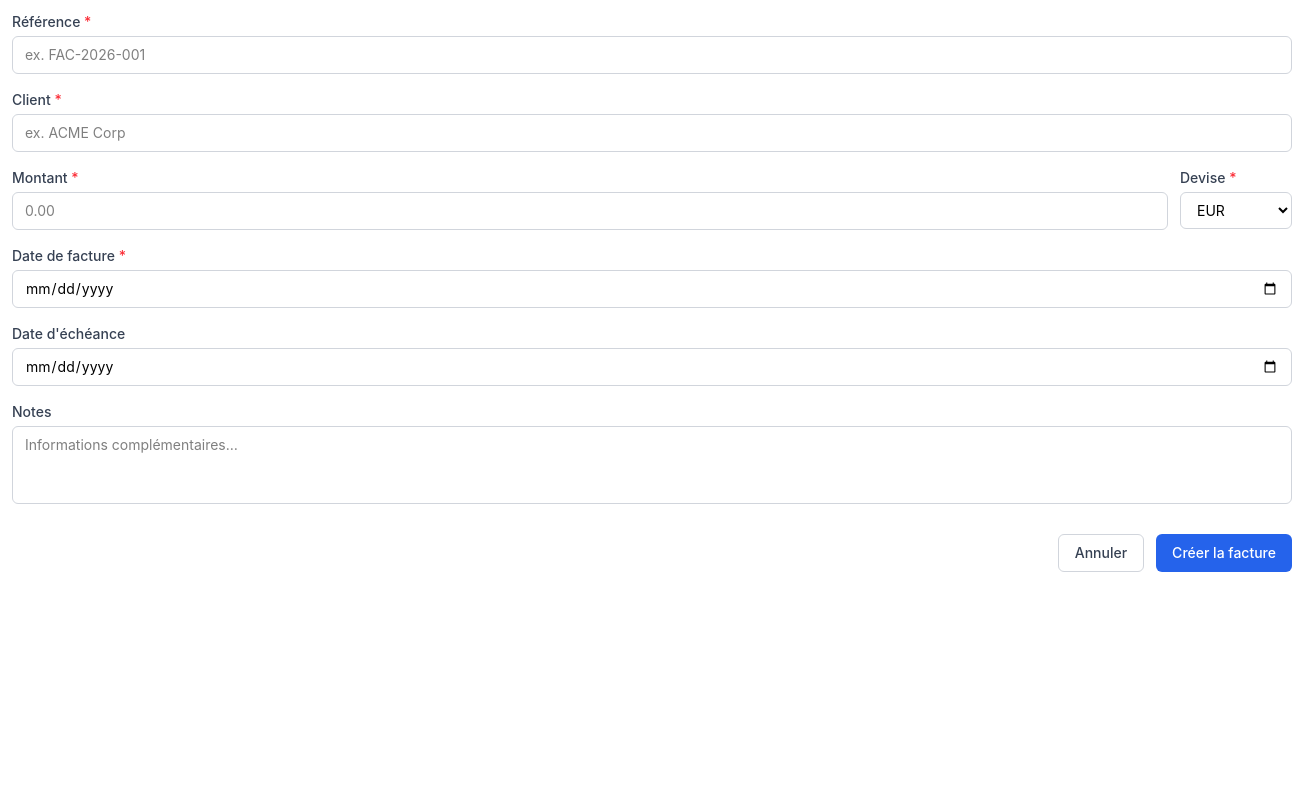
Scenario: InvoiceForm › validate() — required fields › shows amount > 0 error when amount is 0
The image size is (1304, 812).
Step 1. Type "FAC-X" into the field with id "inv-reference" → (652, 55), box [12,36,1292,74]
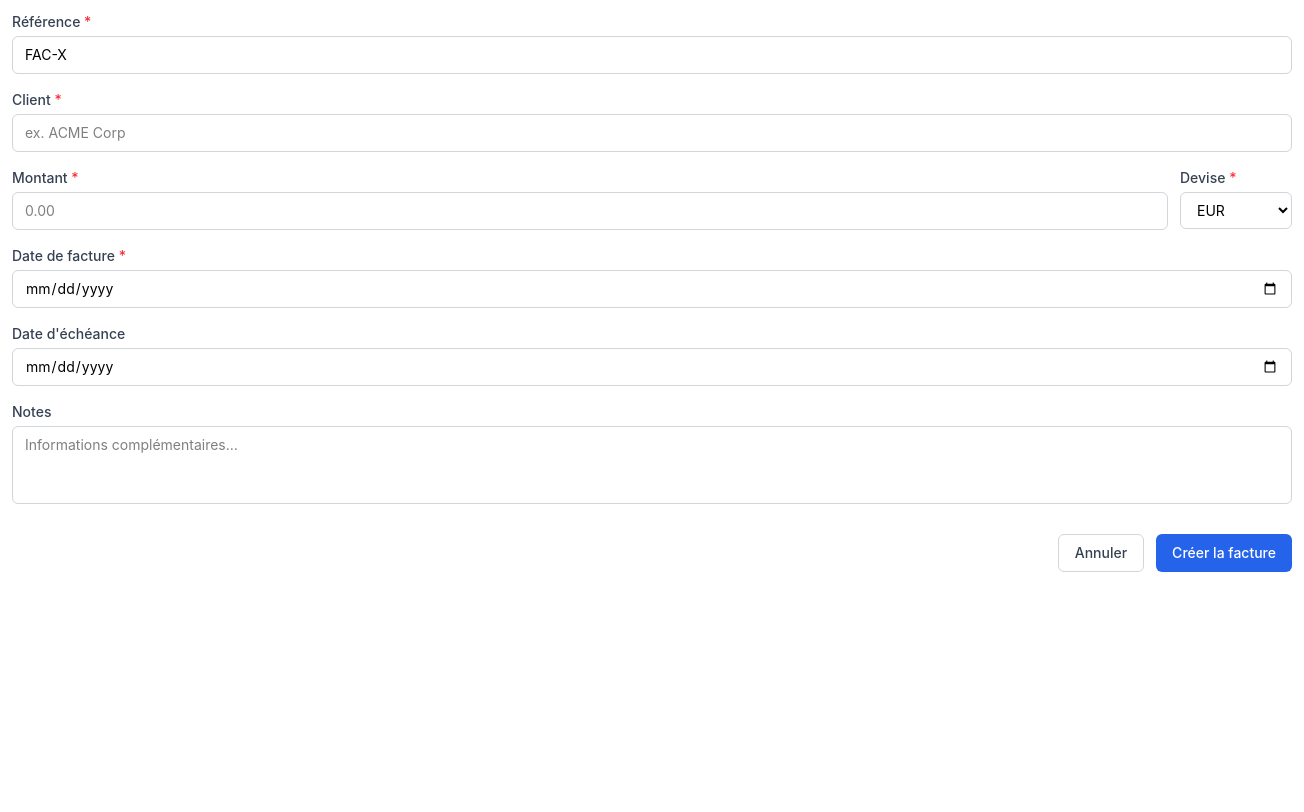
Step 2. Type "Test" into the field with id "inv-client" → (652, 133), box [12,114,1292,152]
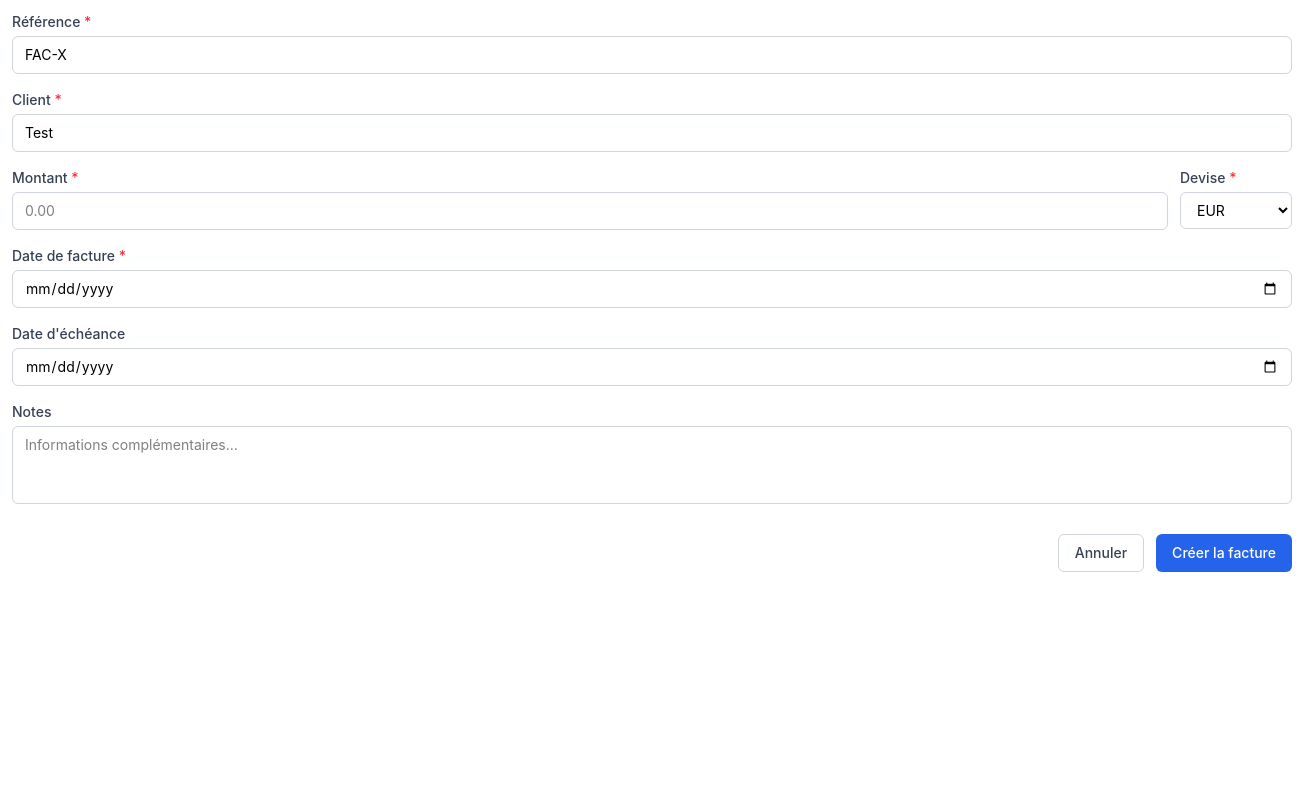
Step 3. Type "0" into the number field with id "inv-amount" → (590, 211), box [12,192,1168,230]
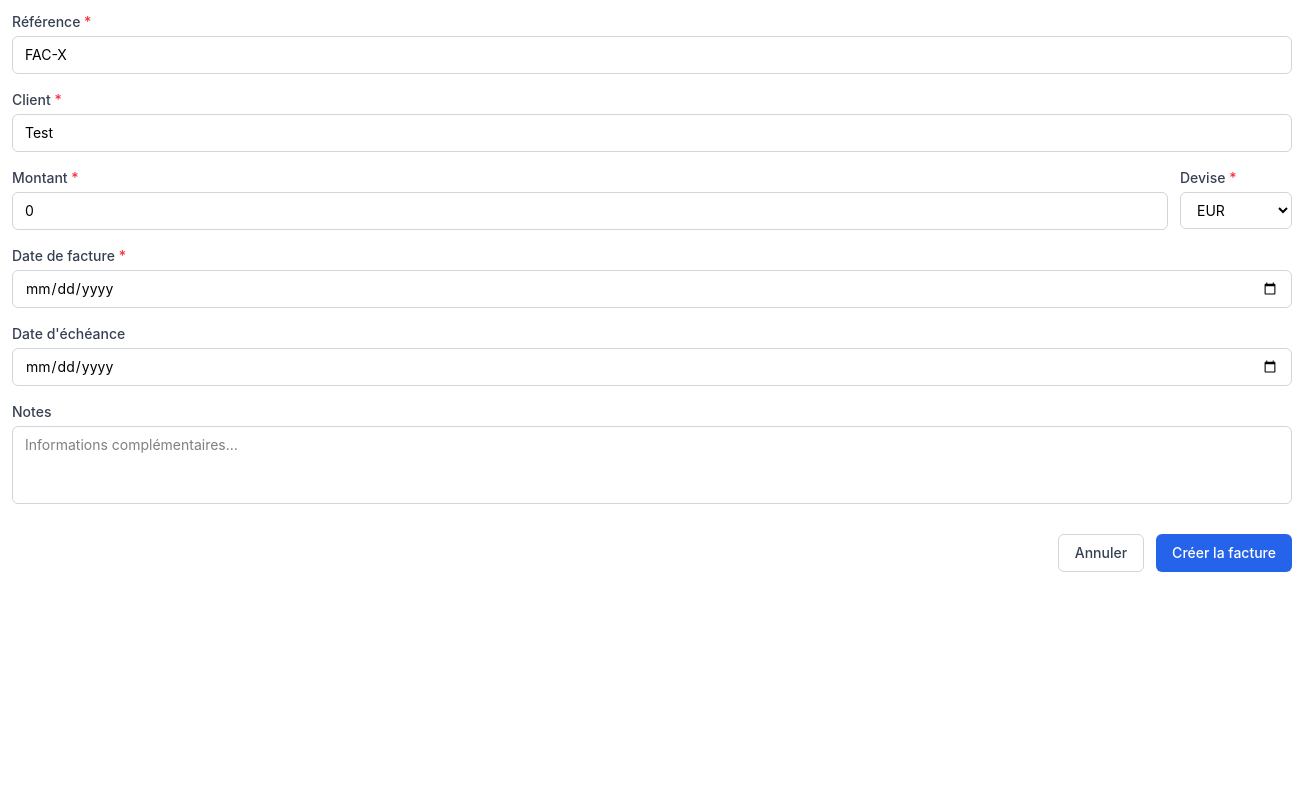
Step 4. Submit the form
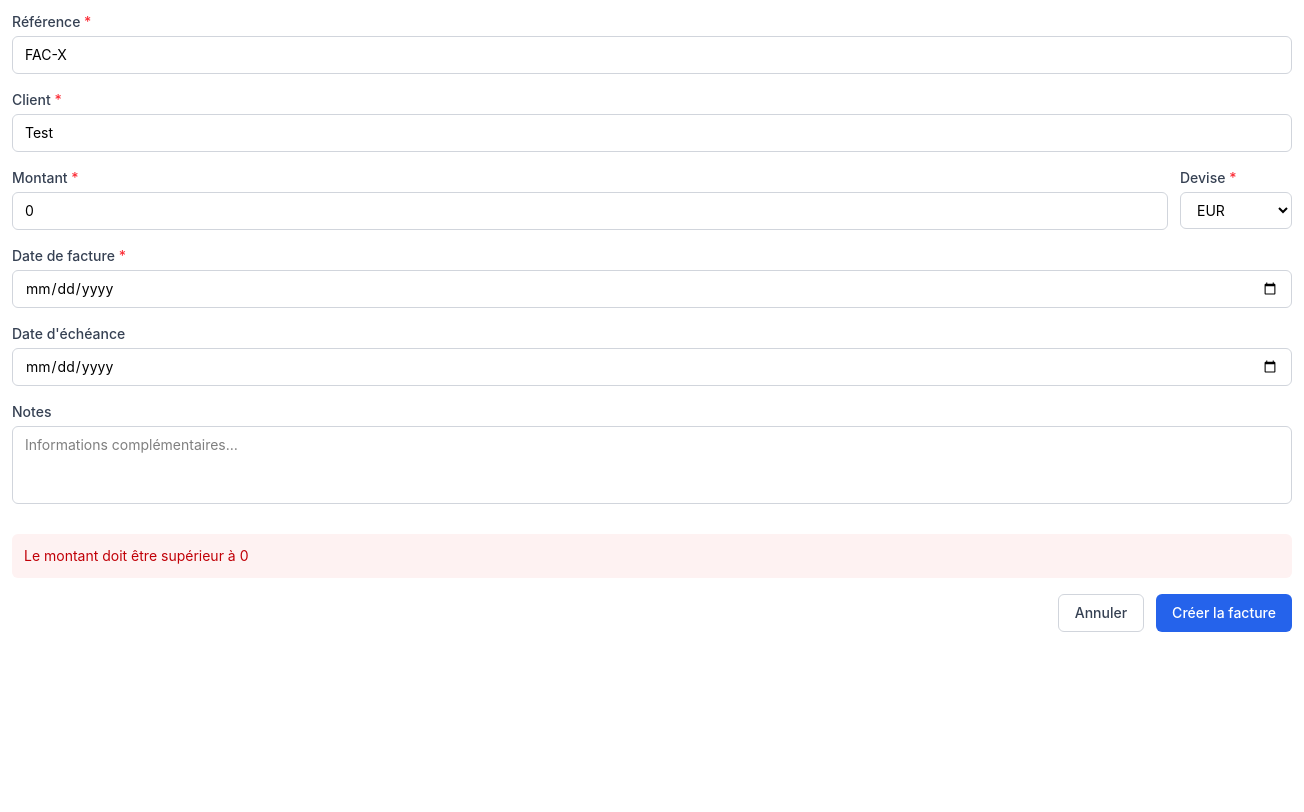
Expected: the form shows "supérieur à 0", [24,547,248,564]
